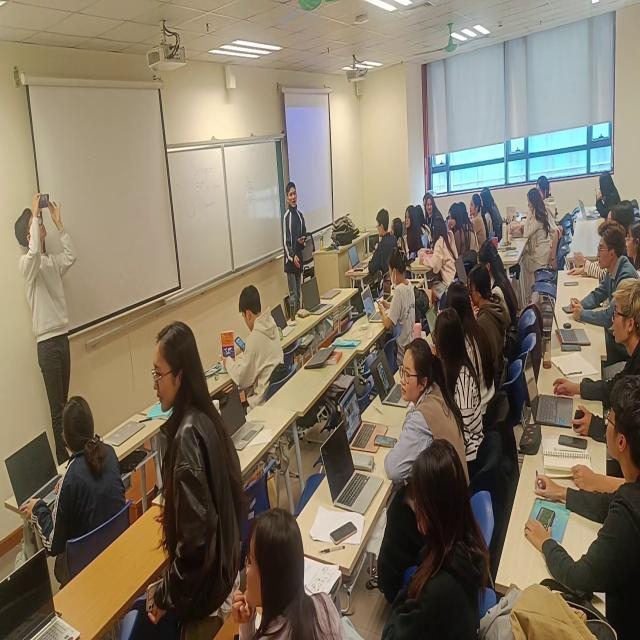raise_head: (524, 366, 640, 640), (431, 309, 489, 457), (568, 220, 640, 331), (591, 275, 640, 374), (535, 174, 561, 231), (625, 223, 640, 279), (390, 217, 409, 259), (606, 204, 622, 227)
stand: (129, 317, 251, 640), (14, 185, 90, 493), (278, 173, 316, 329)
using_computer: (3, 394, 136, 584), (348, 202, 403, 294), (507, 186, 556, 285)
using_phone: (220, 276, 295, 425), (374, 248, 420, 356), (593, 171, 625, 234)
